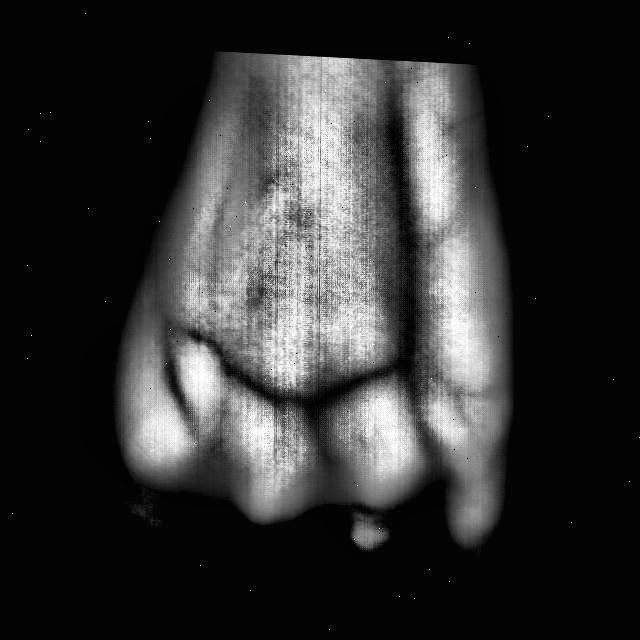Vein: (385, 128, 421, 343)
